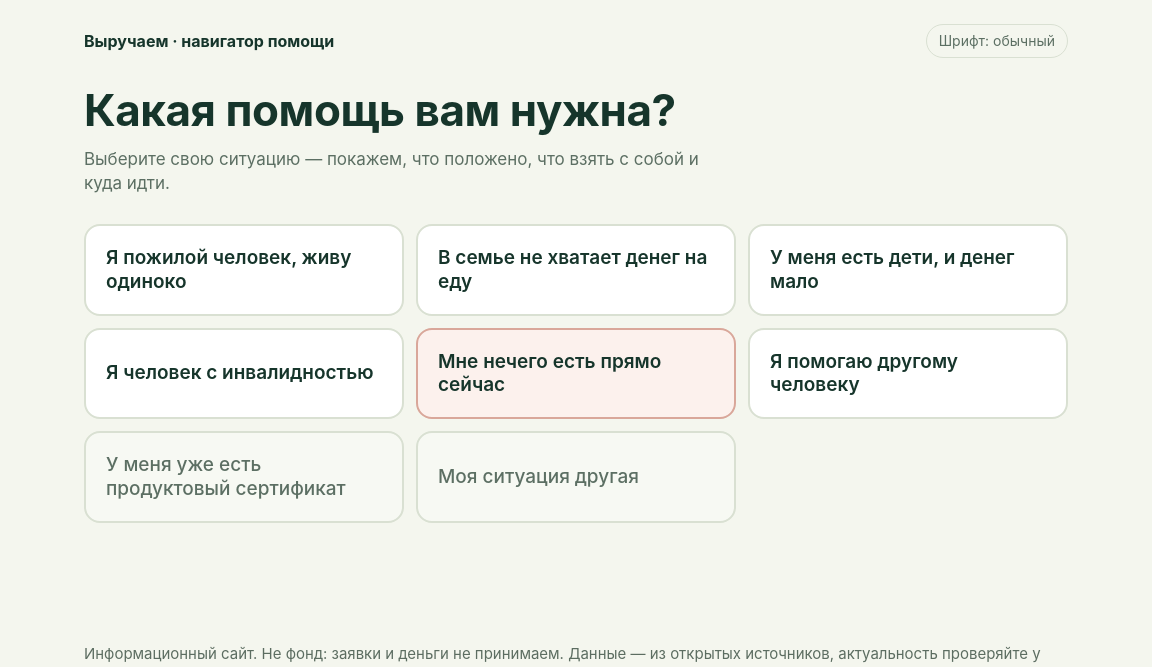
Test: приложение › показывает другие маршруты под карточками программ
Step 1. Click the button "Я пожилой человек, живу одиноко" → (244, 270), box 84,224 -> 404,316
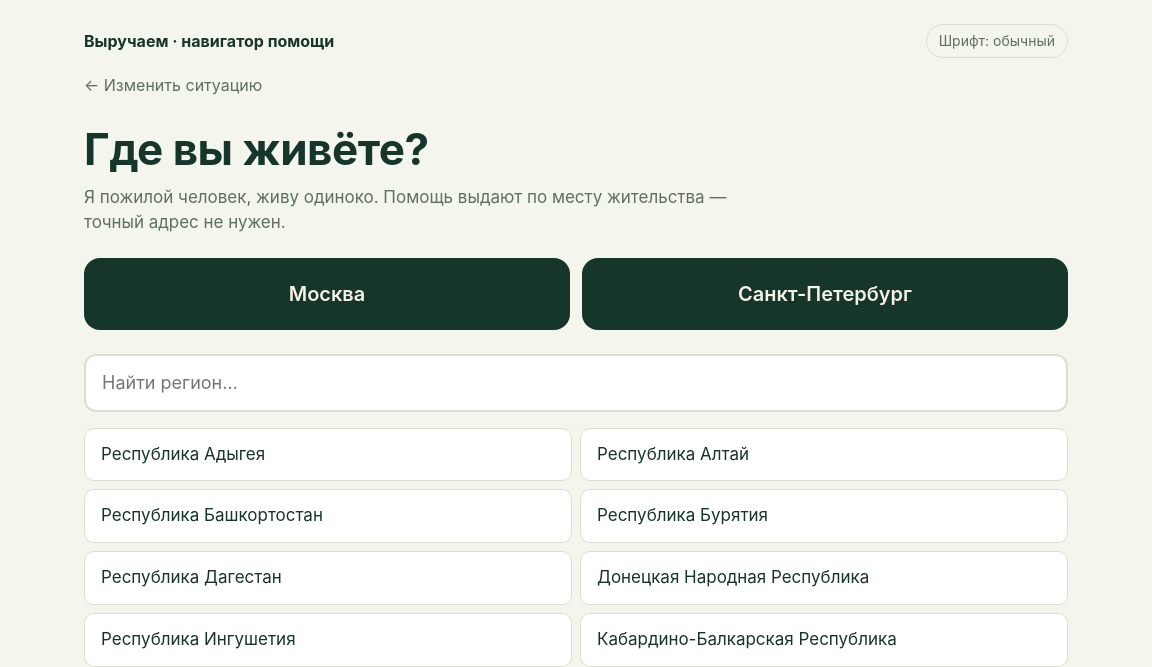
Step 2. Click the button "Москва" → (327, 294), box 84,258 -> 570,330
(page scrolled)
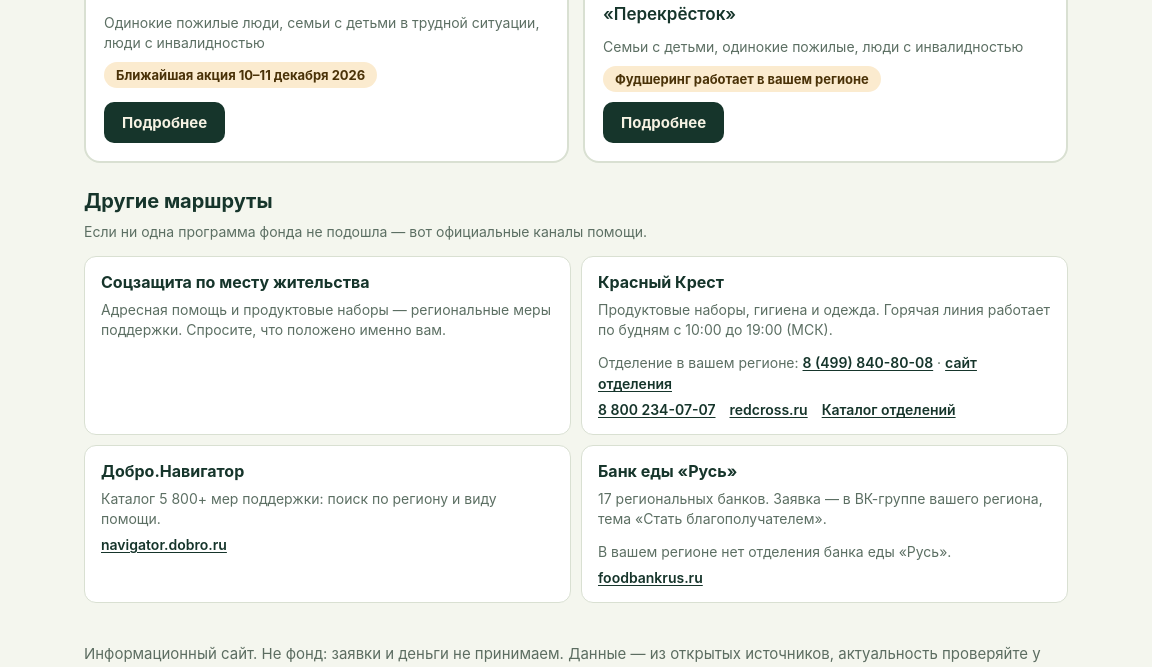
Now the heading "Другие маршруты" is shown, box 84,190 -> 272,214
Now the text "Банк еды «Русь»" is shown, box 598,461 -> 737,481
